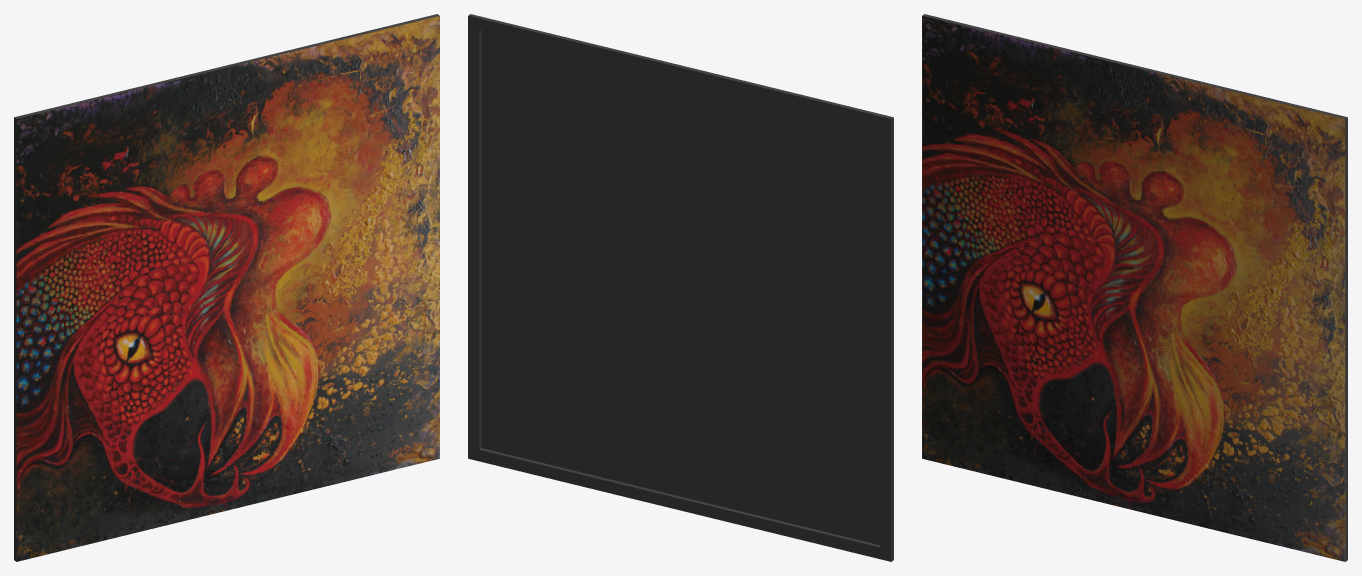
Rendered from baziliskas.glb.
3 views of the same model, side by side, from view 1: azimuth 30°, elevation 25°; view 2: azimuth 150°, elevation 25°; view 3: azimuth 330°, elevation 25° (orthographic).
Visible parts, largest first — view 1: Plane; view 2: Plane; view 3: Plane.
Boxes of the visible parts, bbox=[...] form: Plane: bbox=[14, 14, 439, 561]; Plane: bbox=[468, 14, 893, 561]; Plane: bbox=[922, 14, 1347, 561].
Size of the model in its own units: 1 by 1 by 0.01.
2 materials, 1 textured.
